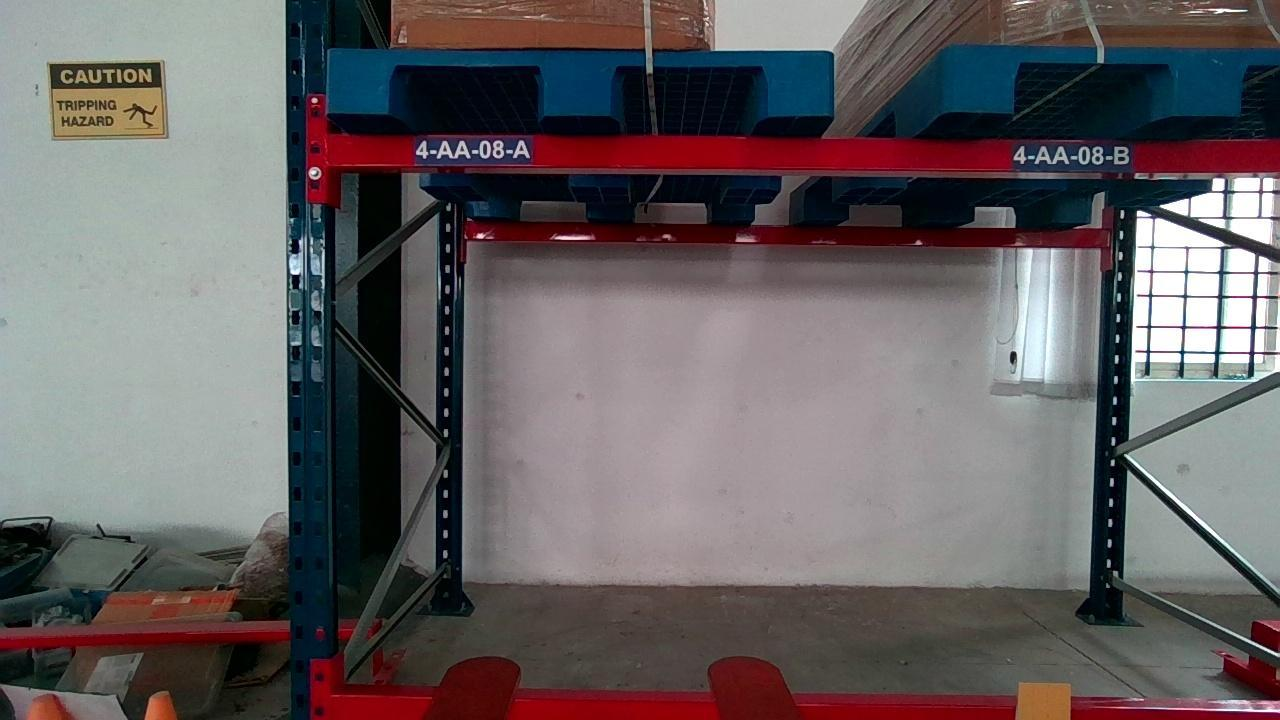h_rack: (326, 133, 1280, 172), (334, 680, 1280, 717)
small_pallet: (326, 42, 831, 116), (948, 43, 1278, 119)
